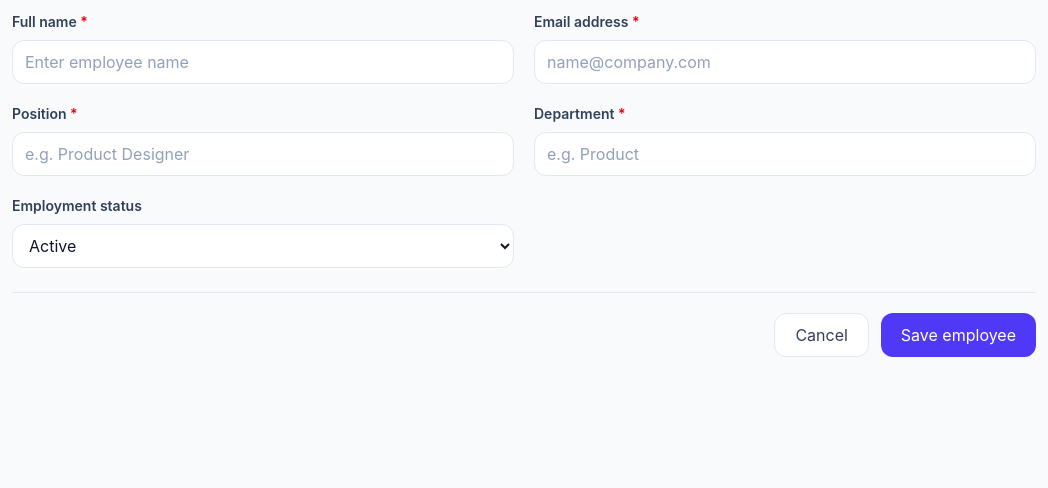
EmployeeForm › renders schema field errors for invalid input
The image size is (1048, 488).
Click the button "Save employee" at [958, 335], box [881, 313, 1036, 357]
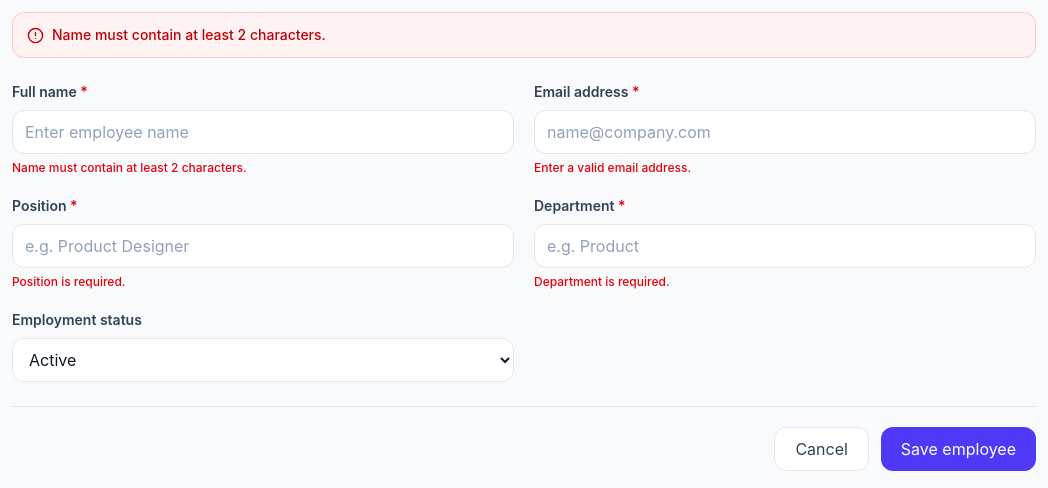
Result: the text "Name must contain at least 2 characters." is shown at [12, 12, 1036, 58]
Result: the text "Enter a valid email address." is shown at [534, 160, 691, 175]
Result: the text "Position is required." is shown at [12, 274, 126, 289]
